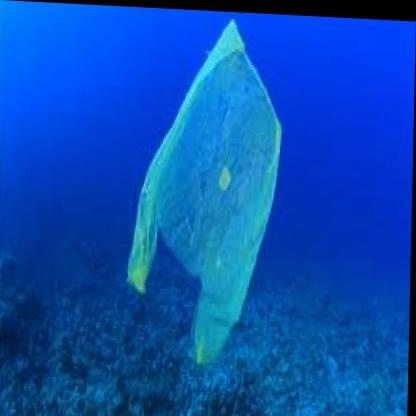trash: (128, 20, 281, 364)
